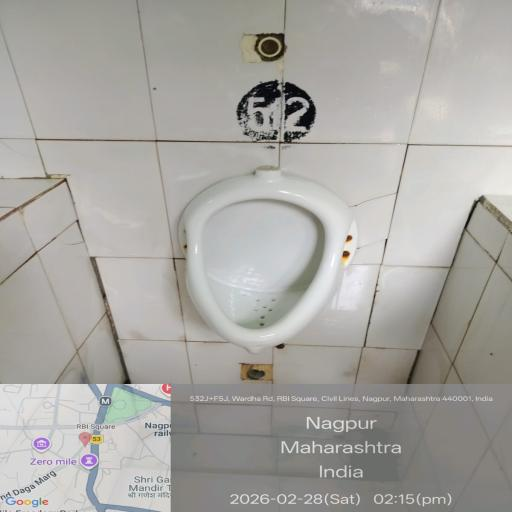clean_floor: (11, 0, 511, 159), (95, 164, 438, 342), (0, 167, 81, 318), (446, 201, 512, 364)
clean_urinal: (195, 189, 334, 337)
partial_dirty_floor: (324, 334, 430, 386), (44, 310, 110, 388)
